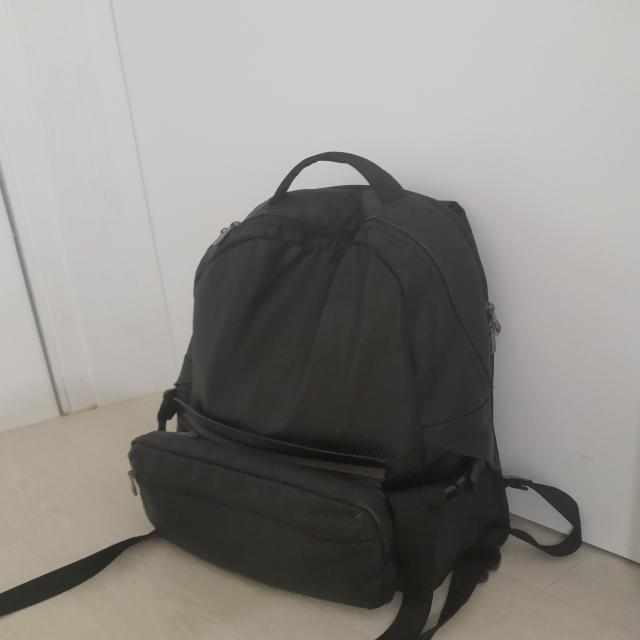backpack: (0, 150, 581, 640)
